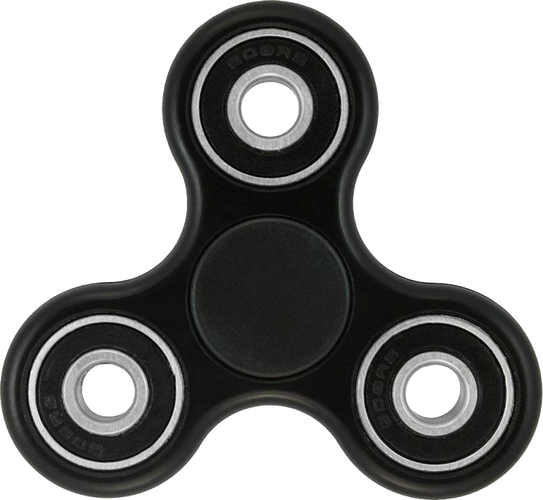fidget_spinner: (3, 1, 542, 496)
